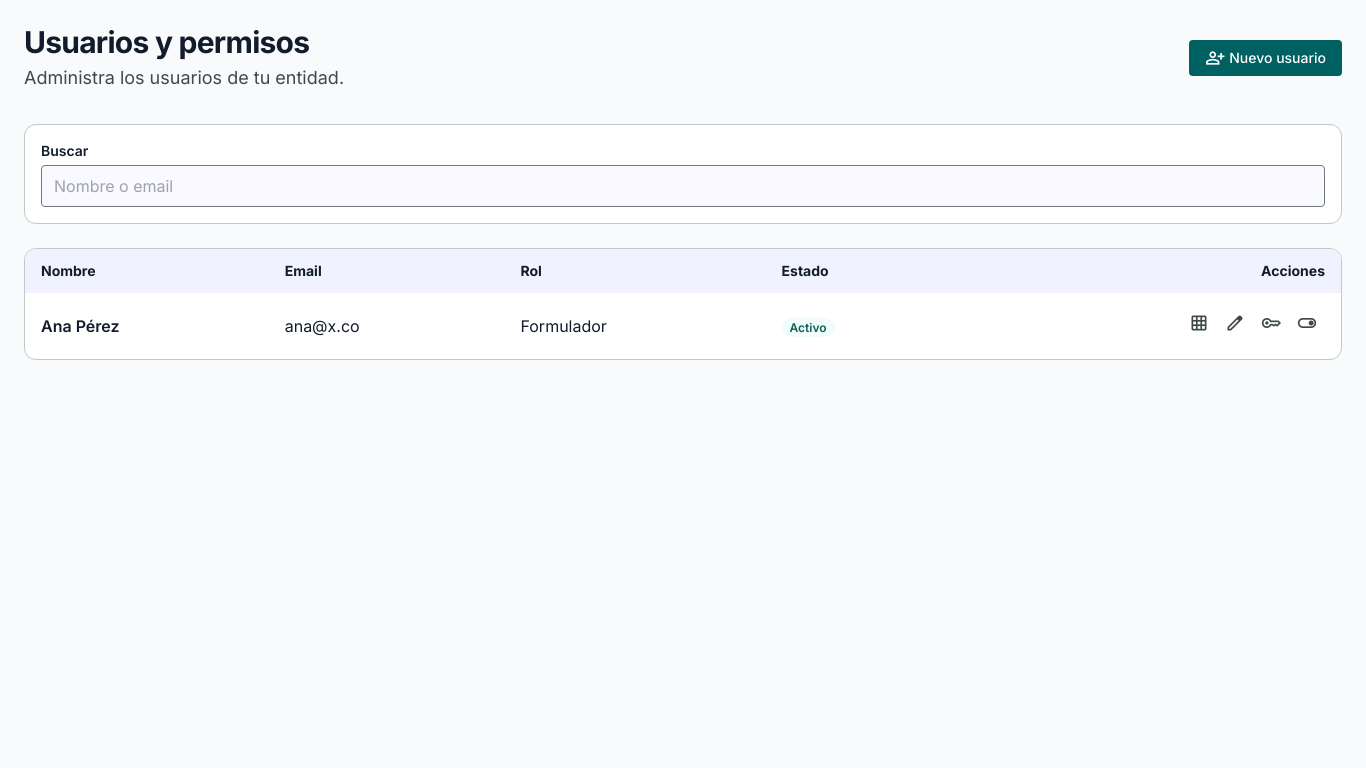
Scenario: UsersAdminPage › abre la matriz de permisos y aplica la plantilla de rol
Click the button named "Permisos de Ana Pérez": {"x": 1199, "y": 326} [1181,305,1217,347]
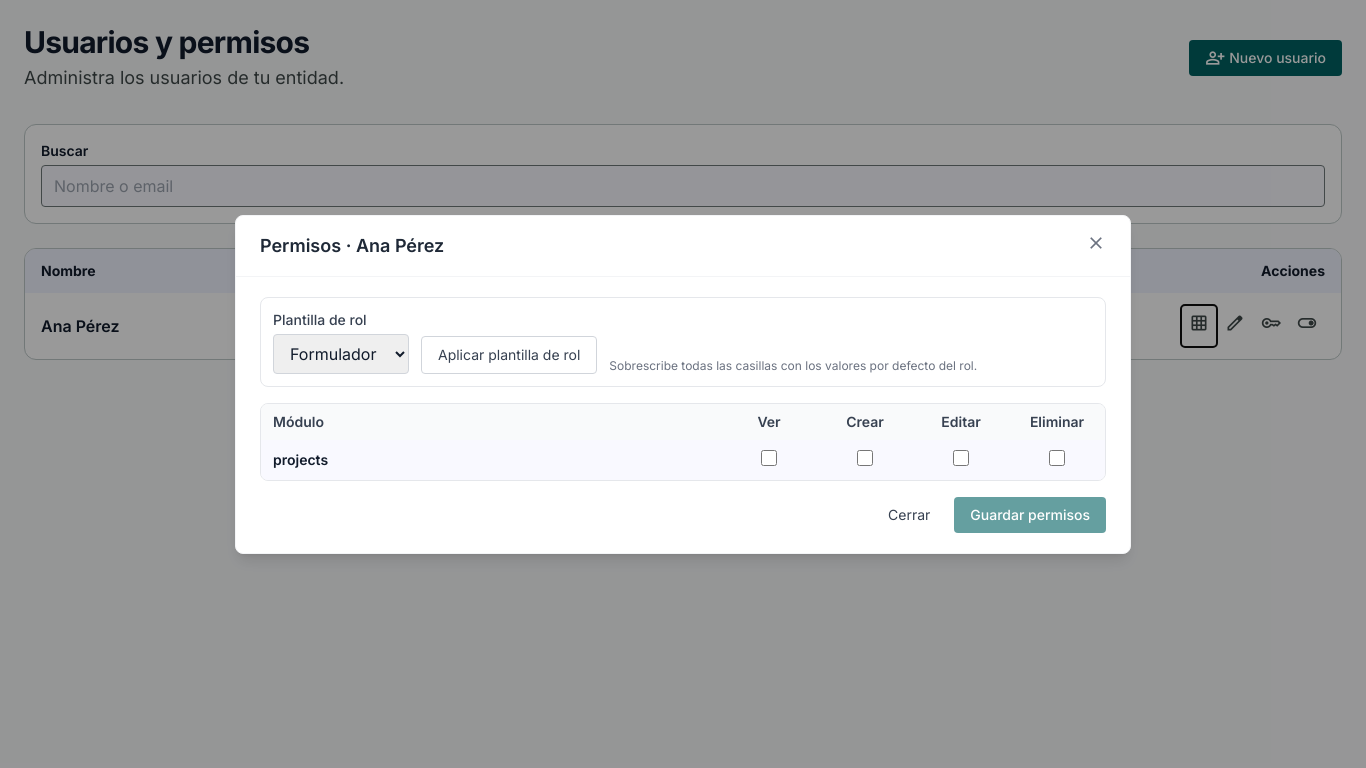
Expected: the checkbox named "projects · Ver" is not checked, [761,450,777,466]
Click the button "Aplicar plantilla de rol": {"x": 509, "y": 354} [421,336,597,374]
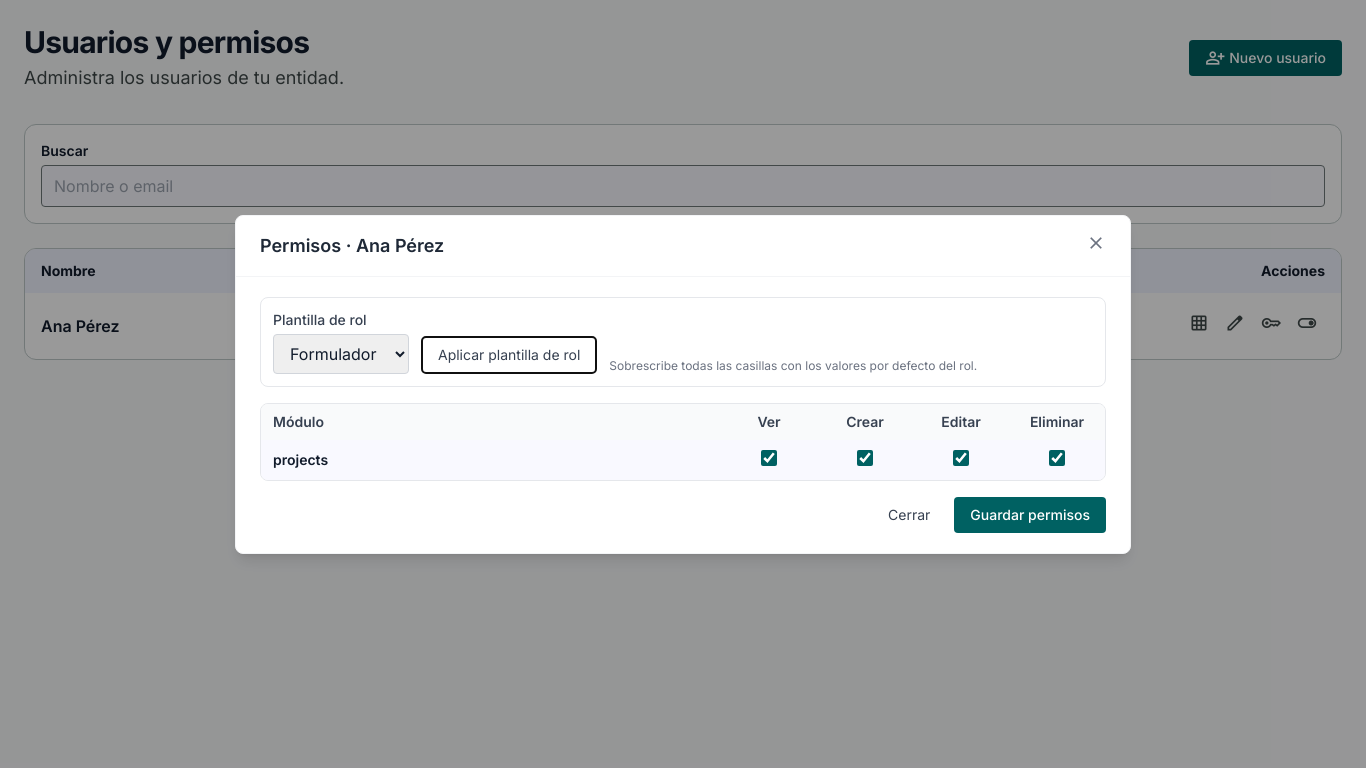
Expected: the checkbox named "projects · Ver" is checked, [761,450,777,466]
Expected: the checkbox named "projects · Eliminar" is checked, [1049,450,1065,466]
